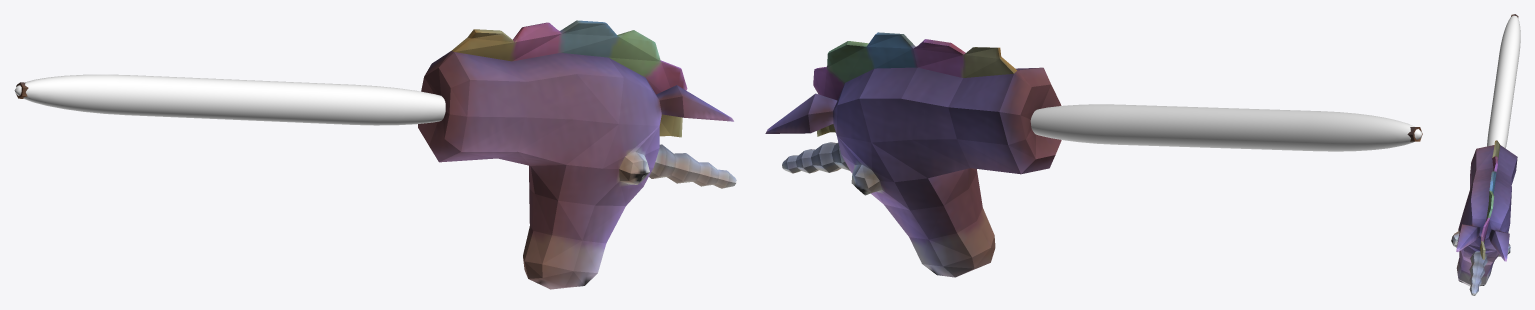
File: UnicornStaffAnchor.fbx
3 renders of one model, left to right at view 1: azimuth 30°, elevation 25°; view 2: azimuth 150°, elevation 25°; view 3: azimuth 270°, elevation 25°, orthographic. The views are drawn at different scales.
Parts seen in each view (by area): view 1: UNICORN_STAFF, UnicornStaffGripCapsule; view 2: UNICORN_STAFF, UnicornStaffGripCapsule; view 3: UNICORN_STAFF, UnicornStaffGripCapsule.
Boxes of the visible parts, x1,y1,x2,y2 form: UNICORN_STAFF: (16,20,736,289); UnicornStaffGripCapsule: (14,74,445,125); UNICORN_STAFF: (765,32,1422,277); UnicornStaffGripCapsule: (1030,104,1421,151); UNICORN_STAFF: (1451,14,1518,295); UnicornStaffGripCapsule: (1487,15,1520,148).
Bounding box in the file's own units: 122 × 50.72 × 21.56.
